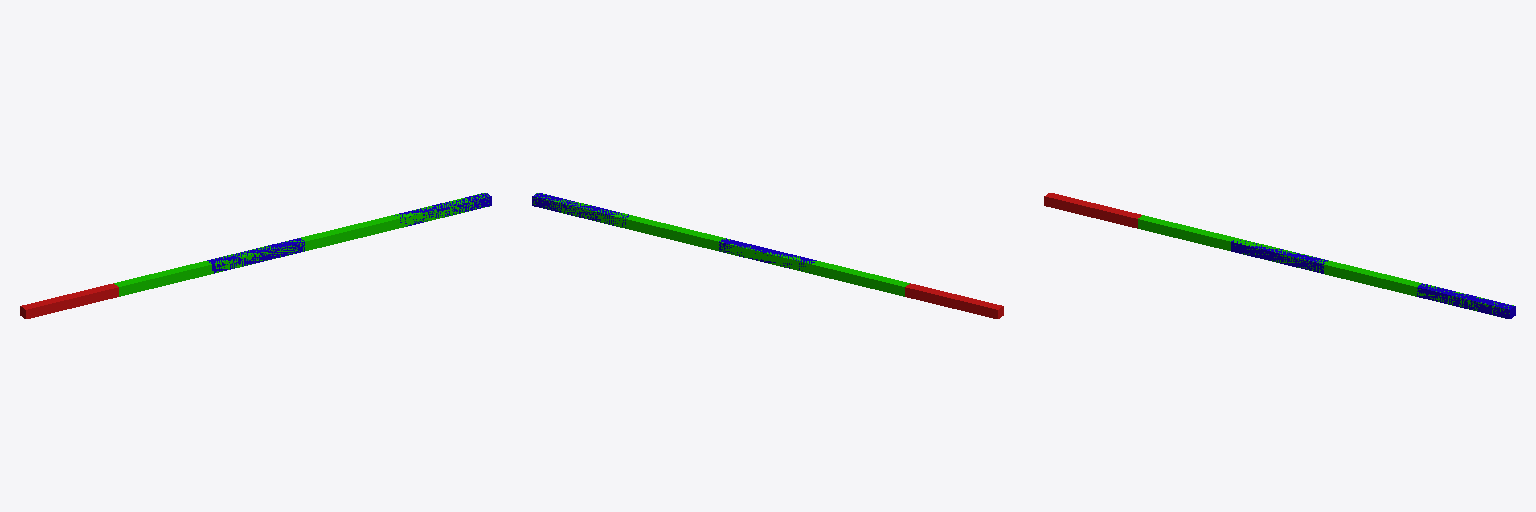
robot.urdf — variable_four_bar_branch:
<?xml version="1.0" ?>
<!-- =================================================================================== -->
<!-- |    This document was autogenerated by xacro from four_bar_branch.xacro          | -->
<!-- |    EDITING THIS FILE BY HAND IS NOT RECOMMENDED                                 | -->
<!-- =================================================================================== -->
<robot name="variable_four_bar_branch">
  <link name="ground"/>
  <link name="Floating Base">
    <inertial>
      <mass value="5.0"/>
      <origin xyz="0. 0. 0."/>
      <inertia ixx="0.1" ixy="0." ixz="0." iyy="0.1" iyz="0." izz="0.1"/>
    </inertial>
  </link>
  <joint name="world_to_base" type="floating">
    <origin rpy="0 0 0" xyz="0 0 0"/>
    <parent link="ground"/>
    <child link="Floating Base"/>
  </joint>
  <link name="link_10">
    <inertial>
      <mass value="3.3"/>
      <origin xyz="0.0 0.0 0.0"/>
      <inertia ixx="0.011253" ixy="0" ixz="0" iyy="0.036203" iyz="0" izz="0.042673"/>
    </inertial>
    <visual>
      <origin rpy="0 0 0" xyz="0.25 0 0"/>
      <geometry>
        <box size="0.5 0.05 0.05"/>
      </geometry>
      <material name="Blue">
        <color rgba="0.1 0 0.8 1.0"/>
      </material>
    </visual>
  </link>
  <link name="link_11">
    <inertial>
      <mass value="3.3"/>
      <origin xyz="0.0 0.0 0.0"/>
      <inertia ixx="0.011253" ixy="0" ixz="0" iyy="0.036203" iyz="0" izz="0.042673"/>
    </inertial>
    <visual>
      <origin rpy="0 0 0" xyz="0.25 0 0"/>
      <geometry>
        <box size="0.5 0.05 0.05"/>
      </geometry>
      <material name="Red">
        <color rgba="0.8 0.1 0.1 1.0"/>
      </material>
    </visual>
  </link>
  <link name="link_12">
    <inertial>
      <mass value="3.3"/>
      <origin xyz="0.0 0.0 0.0"/>
      <inertia ixx="0.011253" ixy="0" ixz="0" iyy="0.036203" iyz="0" izz="0.042673"/>
    </inertial>
    <visual>
      <origin rpy="0 0 0" xyz="0.5 0 0"/>
      <geometry>
        <box size="1.0 0.05 0.05"/>
      </geometry>
      <material name="Green2">
        <color rgba="0.1 0.8 0 1.0"/>
      </material>
    </visual>
  </link>
  <joint independent="false" name="base_to_link_10" type="revolute">
    <parent link="Floating Base"/>
    <child link="link_10"/>
    <origin xyz="1.0 0.0 0.0"/>
    <axis xyz="0 0 1"/>
    <limit effort="30" lower="-10" upper="10" velocity="1.0"/>
  </joint>
  <joint independent="true" name="base_to_link_11" type="revolute">
    <parent link="Floating Base"/>
    <child link="link_11"/>
    <origin xyz="0.0 0.0 0.0"/>
    <axis xyz="0 0 1"/>
    <limit effort="30" lower="-10" upper="10" velocity="1.0"/>
  </joint>
  <joint independent="false" name="link_11_to_link_12" type="revolute">
    <parent link="link_11"/>
    <child link="link_12"/>
    <origin xyz="0.5 0.0 0.0"/>
    <axis xyz="0 0 1"/>
    <limit effort="30" lower="-10" upper="10" velocity="1.0"/>
  </joint>
  <loop name="constraint_10" type="revolute">
    <predecessor link="link_10">
      <origin xyz="0.5 0.0 0.0"/>
    </predecessor>
    <successor link="link_12">
      <origin xyz="1.0 0.0 0.0"/>
    </successor>
    <axis xyz="0 0 1"/>
  </loop>
  <link name="link_7">
    <inertial>
      <mass value="3.3"/>
      <origin xyz="0.0 0.0 0.0"/>
      <inertia ixx="0.011253" ixy="0" ixz="0" iyy="0.036203" iyz="0" izz="0.042673"/>
    </inertial>
    <visual>
      <origin rpy="0 0 0" xyz="0.25 0 0"/>
      <geometry>
        <box size="0.5 0.05 0.05"/>
      </geometry>
      <material name="Blue">
        <color rgba="0.1 0 0.8 1.0"/>
      </material>
    </visual>
  </link>
  <link name="link_8">
    <inertial>
      <mass value="3.3"/>
      <origin xyz="0.0 0.0 0.0"/>
      <inertia ixx="0.011253" ixy="0" ixz="0" iyy="0.036203" iyz="0" izz="0.042673"/>
    </inertial>
    <visual>
      <origin rpy="0 0 0" xyz="0.25 0 0"/>
      <geometry>
        <box size="0.5 0.05 0.05"/>
      </geometry>
      <material name="Red">
        <color rgba="0.8 0.1 0.1 1.0"/>
      </material>
    </visual>
  </link>
  <link name="link_9">
    <inertial>
      <mass value="3.3"/>
      <origin xyz="0.0 0.0 0.0"/>
      <inertia ixx="0.011253" ixy="0" ixz="0" iyy="0.036203" iyz="0" izz="0.042673"/>
    </inertial>
    <visual>
      <origin rpy="0 0 0" xyz="0.5 0 0"/>
      <geometry>
        <box size="1.0 0.05 0.05"/>
      </geometry>
      <material name="Green2">
        <color rgba="0.1 0.8 0 1.0"/>
      </material>
    </visual>
  </link>
  <joint independent="false" name="base_to_link_7" type="revolute">
    <parent link="Floating Base"/>
    <child link="link_7"/>
    <origin xyz="1.0 0.0 0.0"/>
    <axis xyz="0 0 1"/>
    <limit effort="30" lower="-10" upper="10" velocity="1.0"/>
  </joint>
  <joint independent="true" name="base_to_link_8" type="revolute">
    <parent link="Floating Base"/>
    <child link="link_8"/>
    <origin xyz="0.0 0.0 0.0"/>
    <axis xyz="0 0 1"/>
    <limit effort="30" lower="-10" upper="10" velocity="1.0"/>
  </joint>
  <joint independent="false" name="link_8_to_link_9" type="revolute">
    <parent link="link_8"/>
    <child link="link_9"/>
    <origin xyz="0.5 0.0 0.0"/>
    <axis xyz="0 0 1"/>
    <limit effort="30" lower="-10" upper="10" velocity="1.0"/>
  </joint>
  <loop name="constraint_7" type="revolute">
    <predecessor link="link_7">
      <origin xyz="0.5 0.0 0.0"/>
    </predecessor>
    <successor link="link_9">
      <origin xyz="1.0 0.0 0.0"/>
    </successor>
    <axis xyz="0 0 1"/>
  </loop>
  <link name="link_4">
    <inertial>
      <mass value="3.3"/>
      <origin xyz="0.0 0.0 0.0"/>
      <inertia ixx="0.011253" ixy="0" ixz="0" iyy="0.036203" iyz="0" izz="0.042673"/>
    </inertial>
    <visual>
      <origin rpy="0 0 0" xyz="0.25 0 0"/>
      <geometry>
        <box size="0.5 0.05 0.05"/>
      </geometry>
      <material name="Blue">
        <color rgba="0.1 0 0.8 1.0"/>
      </material>
    </visual>
  </link>
  <link name="link_5">
    <inertial>
      <mass value="3.3"/>
      <origin xyz="0.0 0.0 0.0"/>
      <inertia ixx="0.011253" ixy="0" ixz="0" iyy="0.036203" iyz="0" izz="0.042673"/>
    </inertial>
    <visual>
      <origin rpy="0 0 0" xyz="0.25 0 0"/>
      <geometry>
        <box size="0.5 0.05 0.05"/>
      </geometry>
      <material name="Red">
        <color rgba="0.8 0.1 0.1 1.0"/>
      </material>
    </visual>
  </link>
  <link name="link_6">
    <inertial>
      <mass value="3.3"/>
      <origin xyz="0.0 0.0 0.0"/>
      <inertia ixx="0.011253" ixy="0" ixz="0" iyy="0.036203" iyz="0" izz="0.042673"/>
    </inertial>
    <visual>
      <origin rpy="0 0 0" xyz="0.5 0 0"/>
      <geometry>
        <box size="1.0 0.05 0.05"/>
      </geometry>
      <material name="Green2">
        <color rgba="0.1 0.8 0 1.0"/>
      </material>
    </visual>
  </link>
  <joint independent="false" name="base_to_link_4" type="revolute">
    <parent link="Floating Base"/>
    <child link="link_4"/>
    <origin xyz="1.0 0.0 0.0"/>
    <axis xyz="0 0 1"/>
    <limit effort="30" lower="-10" upper="10" velocity="1.0"/>
  </joint>
  <joint independent="true" name="base_to_link_5" type="revolute">
    <parent link="Floating Base"/>
    <child link="link_5"/>
    <origin xyz="0.0 0.0 0.0"/>
    <axis xyz="0 0 1"/>
    <limit effort="30" lower="-10" upper="10" velocity="1.0"/>
  </joint>
  <joint independent="false" name="link_5_to_link_6" type="revolute">
    <parent link="link_5"/>
    <child link="link_6"/>
    <origin xyz="0.5 0.0 0.0"/>
    <axis xyz="0 0 1"/>
    <limit effort="30" lower="-10" upper="10" velocity="1.0"/>
  </joint>
  <loop name="constraint_4" type="revolute">
    <predecessor link="link_4">
      <origin xyz="0.5 0.0 0.0"/>
    </predecessor>
    <successor link="link_6">
      <origin xyz="1.0 0.0 0.0"/>
    </successor>
    <axis xyz="0 0 1"/>
  </loop>
  <link name="link_1">
    <inertial>
      <mass value="3.3"/>
      <origin xyz="0.0 0.0 0.0"/>
      <inertia ixx="0.011253" ixy="0" ixz="0" iyy="0.036203" iyz="0" izz="0.042673"/>
    </inertial>
    <visual>
      <origin rpy="0 0 0" xyz="0.25 0 0"/>
      <geometry>
        <box size="0.5 0.05 0.05"/>
      </geometry>
      <material name="Blue">
        <color rgba="0.1 0 0.8 1.0"/>
      </material>
    </visual>
  </link>
  <link name="link_2">
    <inertial>
      <mass value="3.3"/>
      <origin xyz="0.0 0.0 0.0"/>
      <inertia ixx="0.011253" ixy="0" ixz="0" iyy="0.036203" iyz="0" izz="0.042673"/>
    </inertial>
    <visual>
      <origin rpy="0 0 0" xyz="0.25 0 0"/>
      <geometry>
        <box size="0.5 0.05 0.05"/>
      </geometry>
      <material name="Red">
        <color rgba="0.8 0.1 0.1 1.0"/>
      </material>
    </visual>
  </link>
  <link name="link_3">
    <inertial>
      <mass value="3.3"/>
      <origin xyz="0.0 0.0 0.0"/>
      <inertia ixx="0.011253" ixy="0" ixz="0" iyy="0.036203" iyz="0" izz="0.042673"/>
    </inertial>
    <visual>
      <origin rpy="0 0 0" xyz="0.5 0 0"/>
      <geometry>
        <box size="1.0 0.05 0.05"/>
      </geometry>
      <material name="Green2">
        <color rgba="0.1 0.8 0 1.0"/>
      </material>
    </visual>
  </link>
  <joint independent="false" name="base_to_link_1" type="revolute">
    <parent link="Floating Base"/>
    <child link="link_1"/>
    <origin xyz="1.0 0.0 0.0"/>
    <axis xyz="0 0 1"/>
    <limit effort="30" lower="-10" upper="10" velocity="1.0"/>
  </joint>
  <joint independent="true" name="base_to_link_2" type="revolute">
    <parent link="Floating Base"/>
    <child link="link_2"/>
    <origin xyz="0.0 0.0 0.0"/>
    <axis xyz="0 0 1"/>
    <limit effort="30" lower="-10" upper="10" velocity="1.0"/>
  </joint>
  <joint independent="false" name="link_2_to_link_3" type="revolute">
    <parent link="link_2"/>
    <child link="link_3"/>
    <origin xyz="0.5 0.0 0.0"/>
    <axis xyz="0 0 1"/>
    <limit effort="30" lower="-10" upper="10" velocity="1.0"/>
  </joint>
  <loop name="constraint_1" type="revolute">
    <predecessor link="link_1">
      <origin xyz="0.5 0.0 0.0"/>
    </predecessor>
    <successor link="link_3">
      <origin xyz="1.0 0.0 0.0"/>
    </successor>
    <axis xyz="0 0 1"/>
  </loop>
  <link name="link_22">
    <inertial>
      <mass value="3.3"/>
      <origin xyz="0.0 0.0 0.0"/>
      <inertia ixx="0.011253" ixy="0" ixz="0" iyy="0.036203" iyz="0" izz="0.042673"/>
    </inertial>
    <visual>
      <origin rpy="0 0 0" xyz="0.25 0 0"/>
      <geometry>
        <box size="0.5 0.05 0.05"/>
      </geometry>
      <material name="Blue">
        <color rgba="0.1 0 0.8 1.0"/>
      </material>
    </visual>
  </link>
  <link name="link_23">
    <inertial>
      <mass value="3.3"/>
      <origin xyz="0.0 0.0 0.0"/>
      <inertia ixx="0.011253" ixy="0" ixz="0" iyy="0.036203" iyz="0" izz="0.042673"/>
    </inertial>
    <visual>
      <origin rpy="0 0 0" xyz="0.25 0 0"/>
      <geometry>
        <box size="0.5 0.05 0.05"/>
      </geometry>
      <material name="Red">
        <color rgba="0.8 0.1 0.1 1.0"/>
      </material>
    </visual>
  </link>
  <link name="link_24">
    <inertial>
      <mass value="3.3"/>
      <origin xyz="0.0 0.0 0.0"/>
      <inertia ixx="0.011253" ixy="0" ixz="0" iyy="0.036203" iyz="0" izz="0.042673"/>
    </inertial>
    <visual>
      <origin rpy="0 0 0" xyz="0.5 0 0"/>
      <geometry>
        <box size="1.0 0.05 0.05"/>
      </geometry>
      <material name="Green2">
        <color rgba="0.1 0.8 0 1.0"/>
      </material>
    </visual>
  </link>
  <joint independent="false" name="link_10_to_link_22" type="revolute">
    <parent link="link_10"/>
    <child link="link_22"/>
    <origin xyz="1.0 0.0 0.0"/>
    <axis xyz="0 0 1"/>
    <limit effort="30" lower="-10" upper="10" velocity="1.0"/>
  </joint>
  <joint independent="true" name="link_10_to_link_23" type="revolute">
    <parent link="link_10"/>
    <child link="link_23"/>
    <origin xyz="0.0 0.0 0.0"/>
    <axis xyz="0 0 1"/>
    <limit effort="30" lower="-10" upper="10" velocity="1.0"/>
  </joint>
  <joint independent="false" name="link_23_to_link_24" type="revolute">
    <parent link="link_23"/>
    <child link="link_24"/>
    <origin xyz="0.5 0.0 0.0"/>
    <axis xyz="0 0 1"/>
    <limit effort="30" lower="-10" upper="10" velocity="1.0"/>
  </joint>
  <loop name="constraint_22" type="revolute">
    <predecessor link="link_22">
      <origin xyz="0.5 0.0 0.0"/>
    </predecessor>
    <successor link="link_24">
      <origin xyz="1.0 0.0 0.0"/>
    </successor>
    <axis xyz="0 0 1"/>
  </loop>
  <link name="link_19">
    <inertial>
      <mass value="3.3"/>
      <origin xyz="0.0 0.0 0.0"/>
      <inertia ixx="0.011253" ixy="0" ixz="0" iyy="0.036203" iyz="0" izz="0.042673"/>
    </inertial>
    <visual>
      <origin rpy="0 0 0" xyz="0.25 0 0"/>
      <geometry>
        <box size="0.5 0.05 0.05"/>
      </geometry>
      <material name="Blue">
        <color rgba="0.1 0 0.8 1.0"/>
      </material>
    </visual>
  </link>
  <link name="link_20">
    <inertial>
      <mass value="3.3"/>
      <origin xyz="0.0 0.0 0.0"/>
      <inertia ixx="0.011253" ixy="0" ixz="0" iyy="0.036203" iyz="0" izz="0.042673"/>
    </inertial>
    <visual>
      <origin rpy="0 0 0" xyz="0.25 0 0"/>
      <geometry>
        <box size="0.5 0.05 0.05"/>
      </geometry>
      <material name="Red">
        <color rgba="0.8 0.1 0.1 1.0"/>
      </material>
    </visual>
  </link>
  <link name="link_21">
    <inertial>
      <mass value="3.3"/>
      <origin xyz="0.0 0.0 0.0"/>
      <inertia ixx="0.011253" ixy="0" ixz="0" iyy="0.036203" iyz="0" izz="0.042673"/>
    </inertial>
    <visual>
      <origin rpy="0 0 0" xyz="0.5 0 0"/>
      <geometry>
        <box size="1.0 0.05 0.05"/>
      </geometry>
      <material name="Green2">
        <color rgba="0.1 0.8 0 1.0"/>
      </material>
    </visual>
  </link>
  <joint independent="false" name="link_7_to_link_19" type="revolute">
    <parent link="link_7"/>
    <child link="link_19"/>
    <origin xyz="1.0 0.0 0.0"/>
    <axis xyz="0 0 1"/>
    <limit effort="30" lower="-10" upper="10" velocity="1.0"/>
  </joint>
  <joint independent="true" name="link_7_to_link_20" type="revolute">
    <parent link="link_7"/>
    <child link="link_20"/>
    <origin xyz="0.0 0.0 0.0"/>
    <axis xyz="0 0 1"/>
    <limit effort="30" lower="-10" upper="10" velocity="1.0"/>
  </joint>
  <joint independent="false" name="link_20_to_link_21" type="revolute">
    <parent link="link_20"/>
    <child link="link_21"/>
    <origin xyz="0.5 0.0 0.0"/>
    <axis xyz="0 0 1"/>
    <limit effort="30" lower="-10" upper="10" velocity="1.0"/>
  </joint>
  <loop name="constraint_19" type="revolute">
    <predecessor link="link_19">
      <origin xyz="0.5 0.0 0.0"/>
    </predecessor>
    <successor link="link_21">
      <origin xyz="1.0 0.0 0.0"/>
    </successor>
    <axis xyz="0 0 1"/>
  </loop>
  <link name="link_16">
    <inertial>
      <mass value="3.3"/>
      <origin xyz="0.0 0.0 0.0"/>
      <inertia ixx="0.011253" ixy="0" ixz="0" iyy="0.036203" iyz="0" izz="0.042673"/>
    </inertial>
    <visual>
      <origin rpy="0 0 0" xyz="0.25 0 0"/>
      <geometry>
        <box size="0.5 0.05 0.05"/>
      </geometry>
      <material name="Blue">
        <color rgba="0.1 0 0.8 1.0"/>
      </material>
    </visual>
  </link>
  <link name="link_17">
    <inertial>
      <mass value="3.3"/>
      <origin xyz="0.0 0.0 0.0"/>
      <inertia ixx="0.011253" ixy="0" ixz="0" iyy="0.036203" iyz="0" izz="0.042673"/>
    </inertial>
    <visual>
      <origin rpy="0 0 0" xyz="0.25 0 0"/>
      <geometry>
        <box size="0.5 0.05 0.05"/>
      </geometry>
      <material name="Red">
        <color rgba="0.8 0.1 0.1 1.0"/>
      </material>
    </visual>
  </link>
  <link name="link_18">
    <inertial>
      <mass value="3.3"/>
      <origin xyz="0.0 0.0 0.0"/>
      <inertia ixx="0.011253" ixy="0" ixz="0" iyy="0.036203" iyz="0" izz="0.042673"/>
    </inertial>
    <visual>
      <origin rpy="0 0 0" xyz="0.5 0 0"/>
      <geometry>
        <box size="1.0 0.05 0.05"/>
      </geometry>
      <material name="Green2">
        <color rgba="0.1 0.8 0 1.0"/>
      </material>
    </visual>
  </link>
  <joint independent="false" name="link_4_to_link_16" type="revolute">
    <parent link="link_4"/>
    <child link="link_16"/>
    <origin xyz="1.0 0.0 0.0"/>
    <axis xyz="0 0 1"/>
    <limit effort="30" lower="-10" upper="10" velocity="1.0"/>
  </joint>
  <joint independent="true" name="link_4_to_link_17" type="revolute">
    <parent link="link_4"/>
    <child link="link_17"/>
    <origin xyz="0.0 0.0 0.0"/>
    <axis xyz="0 0 1"/>
    <limit effort="30" lower="-10" upper="10" velocity="1.0"/>
  </joint>
  <joint independent="false" name="link_17_to_link_18" type="revolute">
    <parent link="link_17"/>
    <child link="link_18"/>
    <origin xyz="0.5 0.0 0.0"/>
    <axis xyz="0 0 1"/>
    <limit effort="30" lower="-10" upper="10" velocity="1.0"/>
  </joint>
  <loop name="constraint_16" type="revolute">
    <predecessor link="link_16">
      <origin xyz="0.5 0.0 0.0"/>
    </predecessor>
    <successor link="link_18">
      <origin xyz="1.0 0.0 0.0"/>
    </successor>
    <axis xyz="0 0 1"/>
  </loop>
  <link name="link_13">
    <inertial>
      <mass value="3.3"/>
      <origin xyz="0.0 0.0 0.0"/>
      <inertia ixx="0.011253" ixy="0" ixz="0" iyy="0.036203" iyz="0" izz="0.042673"/>
    </inertial>
    <visual>
      <origin rpy="0 0 0" xyz="0.25 0 0"/>
      <geometry>
        <box size="0.5 0.05 0.05"/>
      </geometry>
      <material name="Blue">
        <color rgba="0.1 0 0.8 1.0"/>
      </material>
    </visual>
  </link>
  <link name="link_14">
    <inertial>
      <mass value="3.3"/>
      <origin xyz="0.0 0.0 0.0"/>
      <inertia ixx="0.011253" ixy="0" ixz="0" iyy="0.036203" iyz="0" izz="0.042673"/>
    </inertial>
    <visual>
      <origin rpy="0 0 0" xyz="0.25 0 0"/>
      <geometry>
        <box size="0.5 0.05 0.05"/>
      </geometry>
      <material name="Red">
        <color rgba="0.8 0.1 0.1 1.0"/>
      </material>
    </visual>
  </link>
  <link name="link_15">
    <inertial>
      <mass value="3.3"/>
      <origin xyz="0.0 0.0 0.0"/>
      <inertia ixx="0.011253" ixy="0" ixz="0" iyy="0.036203" iyz="0" izz="0.042673"/>
    </inertial>
    <visual>
      <origin rpy="0 0 0" xyz="0.5 0 0"/>
      <geometry>
        <box size="1.0 0.05 0.05"/>
      </geometry>
      <material name="Green2">
        <color rgba="0.1 0.8 0 1.0"/>
      </material>
    </visual>
  </link>
  <joint independent="false" name="link_1_to_link_13" type="revolute">
    <parent link="link_1"/>
    <child link="link_13"/>
    <origin xyz="1.0 0.0 0.0"/>
    <axis xyz="0 0 1"/>
    <limit effort="30" lower="-10" upper="10" velocity="1.0"/>
  </joint>
  <joint independent="true" name="link_1_to_link_14" type="revolute">
    <parent link="link_1"/>
    <child link="link_14"/>
    <origin xyz="0.0 0.0 0.0"/>
    <axis xyz="0 0 1"/>
    <limit effort="30" lower="-10" upper="10" velocity="1.0"/>
  </joint>
  <joint independent="false" name="link_14_to_link_15" type="revolute">
    <parent link="link_14"/>
    <child link="link_15"/>
    <origin xyz="0.5 0.0 0.0"/>
    <axis xyz="0 0 1"/>
    <limit effort="30" lower="-10" upper="10" velocity="1.0"/>
  </joint>
  <loop name="constraint_13" type="revolute">
    <predecessor link="link_13">
      <origin xyz="0.5 0.0 0.0"/>
    </predecessor>
    <successor link="link_15">
      <origin xyz="1.0 0.0 0.0"/>
    </successor>
    <axis xyz="0 0 1"/>
  </loop>
</robot>

--- Render facts (derived) ---
3 views of the same robot in one strip: view 1: azimuth 30°, elevation 25°; view 2: azimuth 150°, elevation 25°; view 3: azimuth 330°, elevation 25° (orthographic).
Model variable_four_bar_branch with 26 links and 25 joints (24 revolute, 1 floating), rooted at ground, posed all joints at 0.
Visible links, largest first — view 1: link_24, link_12, link_11, link_10, link_22; view 2: link_12, link_24, link_11, link_22; view 3: link_12, link_24, link_11, link_22, link_10.
Link boxes in pixels (x1=…): link_24: x1=301, y1=193, x2=489, y2=250; link_12: x1=114, y1=238, x2=304, y2=296; link_11: x1=20, y1=283, x2=118, y2=318; link_10: x1=207, y1=238, x2=304, y2=273; link_22: x1=394, y1=193, x2=491, y2=226; link_12: x1=719, y1=238, x2=909, y2=296; link_24: x1=533, y1=193, x2=722, y2=250; link_11: x1=905, y1=283, x2=1003, y2=318; link_22: x1=532, y1=193, x2=628, y2=227; link_12: x1=1138, y1=215, x2=1328, y2=272; link_24: x1=1324, y1=261, x2=1513, y2=317; link_11: x1=1044, y1=193, x2=1141, y2=228; link_22: x1=1417, y1=283, x2=1515, y2=318; link_10: x1=1231, y1=240, x2=1327, y2=273.
Size in the robot's own frame: 2.5 by 0.05 by 0.05 metres.
Geometry: primitives only (box / cylinder / sphere), no mesh files.
